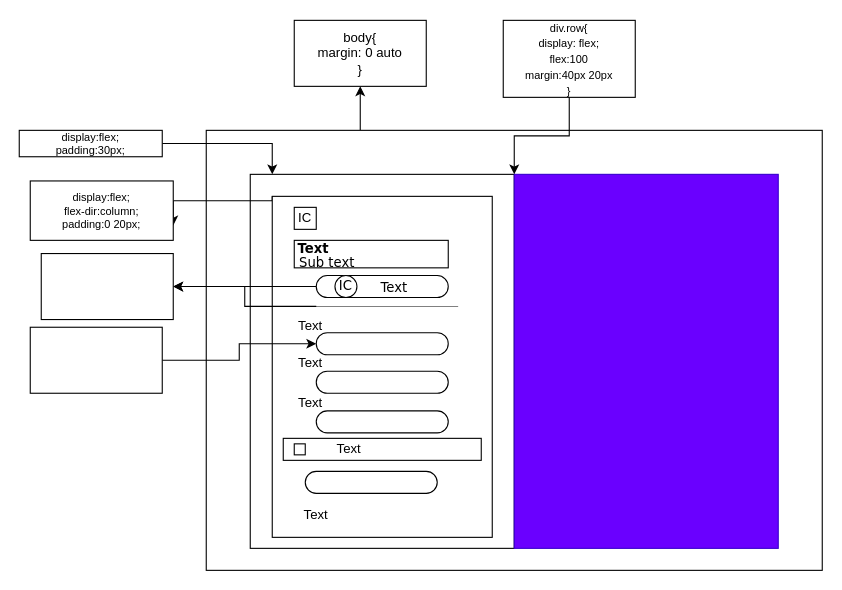
This 842x590 diagram has some shape labels left out. The shapes that lost their labels are listed below. From the top down, each one's centre as x and y in pixels, then its label:
the point at 106,286: display:flex; align-self:center;
the point at 95,359: align-self:center;
the point at 645,360: Image
